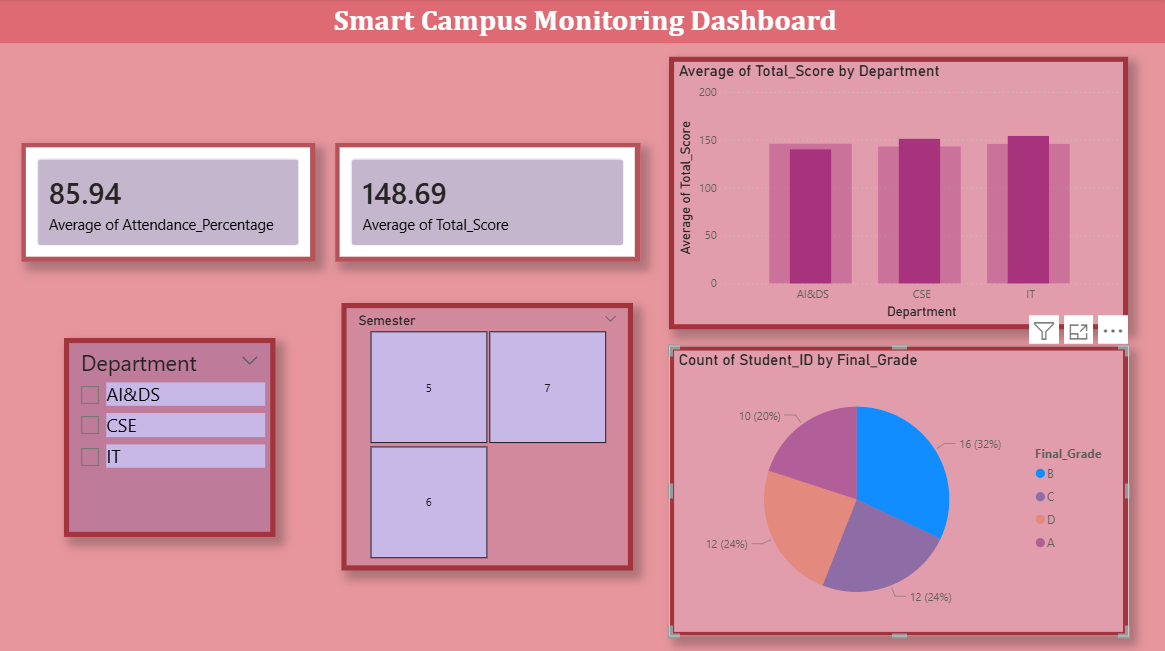

Layout of this report page (visuals, bound fields, positions):
{"tool":"powerbi","page":{"name":"Page 1","canvas":[1280,720],"ordinal":0},"visuals":[{"type":"textbox","box":[0,0,1280.3,49.4],"z":0},{"type":"cardVisual","fields":{"Data":["Avg(5 student_performance.Attendance_Percentage)"]},"box":[24.7,159.2,322.5,130.4],"z":1000},{"type":"cardVisual","fields":{"Data":["Avg(5 student_performance.Total_Score)"]},"box":[369.1,159.2,334.8,130.4],"z":2000},{"type":"slicer","fields":{"Values":["5 student_performance.Department"]},"box":[71.7,373.3,231.7,218.3],"z":3000},{"type":"slicer","fields":{"Values":["5 student_performance.Semester"]},"box":[376.7,335,320,293.3],"z":4000},{"type":"clusteredColumnChart","fields":{"Y":["Avg(5 student_performance.Total_Score)"],"Category":["5 student_performance.Department","5 student_performance.Semester","5 student_performance.Subject"]},"box":[735.9,63.9,504.3,299.2],"z":5000},{"type":"pieChart","fields":{"Category":["5 student_performance.Final_Grade"],"Y":["CountNonNull(5 student_performance.Student_ID)"]},"box":[735.9,381.2,504.3,319.7],"z":6000}]}

Visuals, with their boxes in screenshot pixels (x1, y1, x2, y2), scaled from the page's 1280x720 canvas onto the 1165x651 screenshot:
textbox: (0,0,1164,45)
cardVisual - Avg(5 student_performance.Attendance_Percentage): (22,144,316,262)
cardVisual - Avg(5 student_performance.Total_Score): (336,144,641,262)
slicer - 5 student_performance.Department: (65,338,276,535)
slicer - 5 student_performance.Semester: (343,303,634,568)
clusteredColumnChart - Avg(5 student_performance.Total_Score) x 5 student_performance.Department: (670,58,1129,328)
pieChart - 5 student_performance.Final_Grade x CountNonNull(5 student_performance.Student_ID): (670,345,1129,634)
